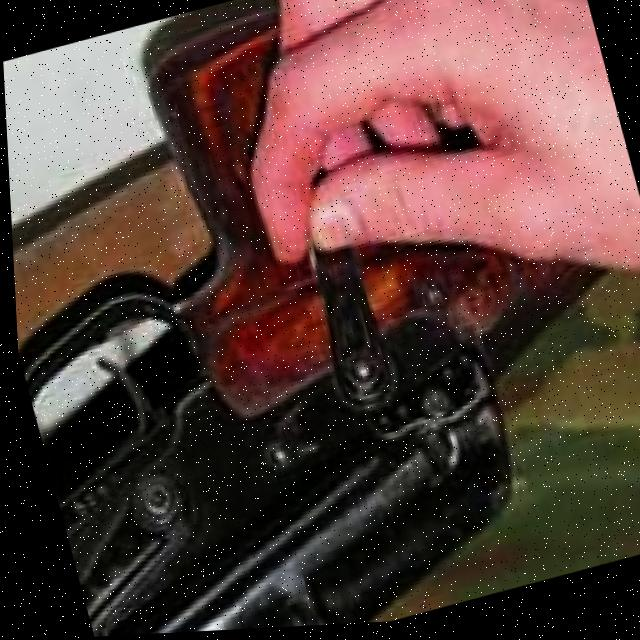firearm: (0, 0, 628, 640)
